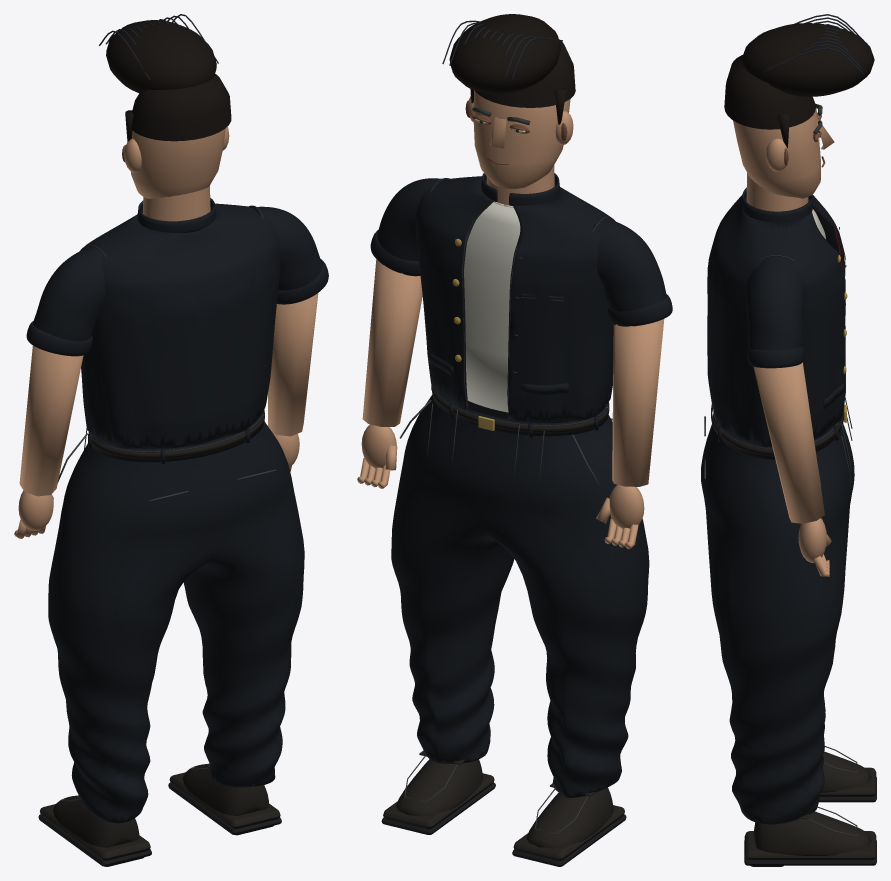
The picture shows the model from 3 angles, left to right: view 1: azimuth 30°, elevation 25°; view 2: azimuth 150°, elevation 25°; view 3: azimuth 270°, elevation 25°; orthographic projection.
Parts seen in each view (by area): view 1: YS_V2_Sewn high waist bontan, YS_V2_Tailored coat shell, YS_V2_Exposed forearm, YS_Pompadour_ClothingV2, YS_V2_Exposed forearm.001, YS_SlickHair_ClothingV2, YS_V2_Set in shaped sleeve, YS_Face_ClothingV2, YS_V2_Set in shaped sleeve.001, YS_V2_Shaped loafer leather.001, YS_V2_Shaped loafer leather, YS_Neck_ClothingV2 (+10 smaller); view 2: YS_V2_Sewn high waist bontan, YS_V2_Tailored coat shell, YS_V2_Cotton tee beneath coat, YS_V2_Exposed forearm, YS_V2_Exposed forearm.001, YS_Pompadour_ClothingV2, YS_Face_ClothingV2, YS_V2_Set in shaped sleeve, YS_V2_Shaped loafer leather.001, YS_V2_Shaped loafer leather, YS_V2_Set in shaped sleeve.001, YS_SlickHair_ClothingV2 (+12 smaller); view 3: YS_V2_Sewn high waist bontan, YS_V2_Tailored coat shell, YS_Pompadour_ClothingV2, YS_V2_Exposed forearm.001, YS_V2_Set in shaped sleeve.001, YS_Face_ClothingV2, YS_SlickHair_ClothingV2, YS_V2_Shaped loafer leather.001, YS_V2_Loafer welt.001, YS_V2_Shaped loafer leather, YS_Neck_ClothingV2, YS_V2_Turned back sleeve cuff.001 (+8 smaller).
Part boxes in pixels (x1=…): YS_V2_Sewn high waist bontan: x1=48, y1=421, x2=304, y2=823; YS_V2_Tailored coat shell: x1=80, y1=203, x2=280, y2=448; YS_V2_Exposed forearm: x1=19, y1=345, x2=83, y2=496; YS_Pompadour_ClothingV2: x1=106, y1=20, x2=216, y2=93; YS_V2_Exposed forearm.001: x1=267, y1=293, x2=318, y2=436; YS_SlickHair_ClothingV2: x1=131, y1=74, x2=231, y2=141; YS_V2_Set in shaped sleeve: x1=33, y1=244, x2=106, y2=341; YS_Face_ClothingV2: x1=130, y1=128, x2=225, y2=198; YS_V2_Set in shaped sleeve.001: x1=249, y1=205, x2=322, y2=290; YS_V2_Shaped loafer leather.001: x1=182, y1=764, x2=269, y2=815; YS_V2_Shaped loafer leather: x1=53, y1=795, x2=139, y2=847; YS_Neck_ClothingV2: x1=142, y1=186, x2=210, y2=221; YS_V2_Sewn high waist bontan: x1=391, y1=395, x2=649, y2=797; YS_V2_Tailored coat shell: x1=415, y1=176, x2=615, y2=423; YS_V2_Cotton tee beneath coat: x1=464, y1=202, x2=520, y2=412; YS_V2_Exposed forearm: x1=612, y1=319, x2=664, y2=486; YS_V2_Exposed forearm.001: x1=362, y1=259, x2=422, y2=426; YS_Pompadour_ClothingV2: x1=449, y1=14, x2=560, y2=94; YS_Face_ClothingV2: x1=473, y1=90, x2=570, y2=188; YS_V2_Set in shaped sleeve: x1=593, y1=216, x2=666, y2=311; YS_V2_Shaped loafer leather.001: x1=396, y1=759, x2=482, y2=816; YS_V2_Shaped loafer leather: x1=526, y1=787, x2=613, y2=848; YS_V2_Set in shaped sleeve.001: x1=377, y1=178, x2=449, y2=261; YS_SlickHair_ClothingV2: x1=475, y1=39, x2=575, y2=107; YS_V2_Sewn high waist bontan: x1=701, y1=423, x2=854, y2=824; YS_V2_Tailored coat shell: x1=707, y1=194, x2=845, y2=446; YS_Pompadour_ClothingV2: x1=741, y1=23, x2=874, y2=96; YS_V2_Exposed forearm.001: x1=753, y1=362, x2=824, y2=523; YS_V2_Set in shaped sleeve.001: x1=746, y1=254, x2=805, y2=350; YS_Face_ClothingV2: x1=733, y1=108, x2=820, y2=198; YS_SlickHair_ClothingV2: x1=724, y1=55, x2=815, y2=129; YS_V2_Shaped loafer leather.001: x1=753, y1=811, x2=871, y2=855; YS_V2_Loafer welt.001: x1=744, y1=831, x2=876, y2=860; YS_V2_Shaped loafer leather: x1=821, y1=751, x2=871, y2=792; YS_Neck_ClothingV2: x1=746, y1=173, x2=808, y2=211; YS_V2_Turned back sleeve cuff.001: x1=746, y1=346, x2=804, y2=368.
Size of the model in its own units: 0.6899 by 1.78 by 0.3567.
